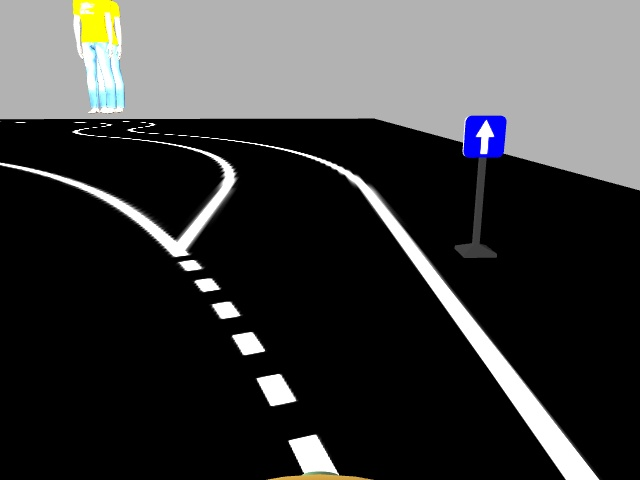OneWay: (461, 112, 505, 160)
